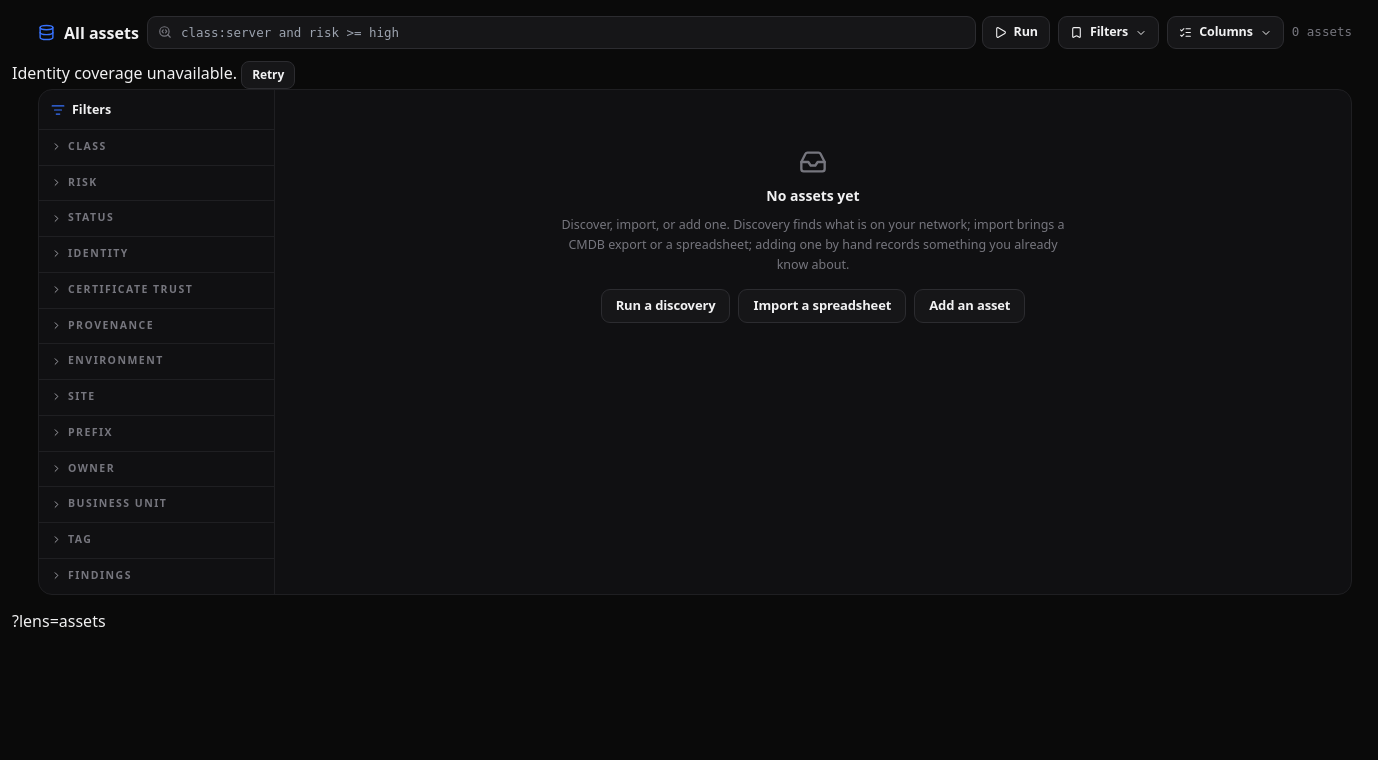
Test: Assets lens · Certificate trust facet › renders the values without numbers — and without a failure note — while the server does not serve the level
What coordinates should you click on to do the following:
click the button "Certificate trust"
I would click on:
 (156, 290)
Its box is [51,282,262,298].
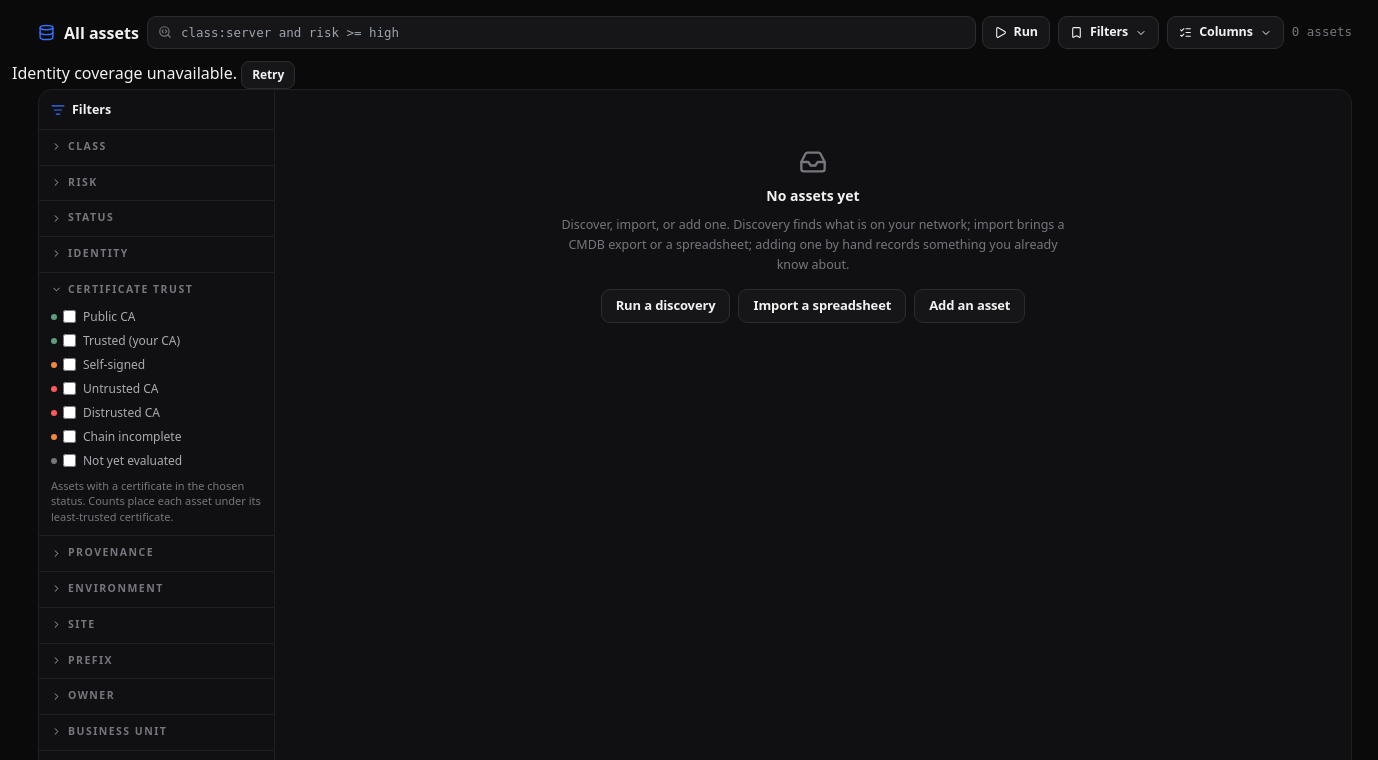
Now the text "Untrusted CA" is shown, box [83,380,158,396]
